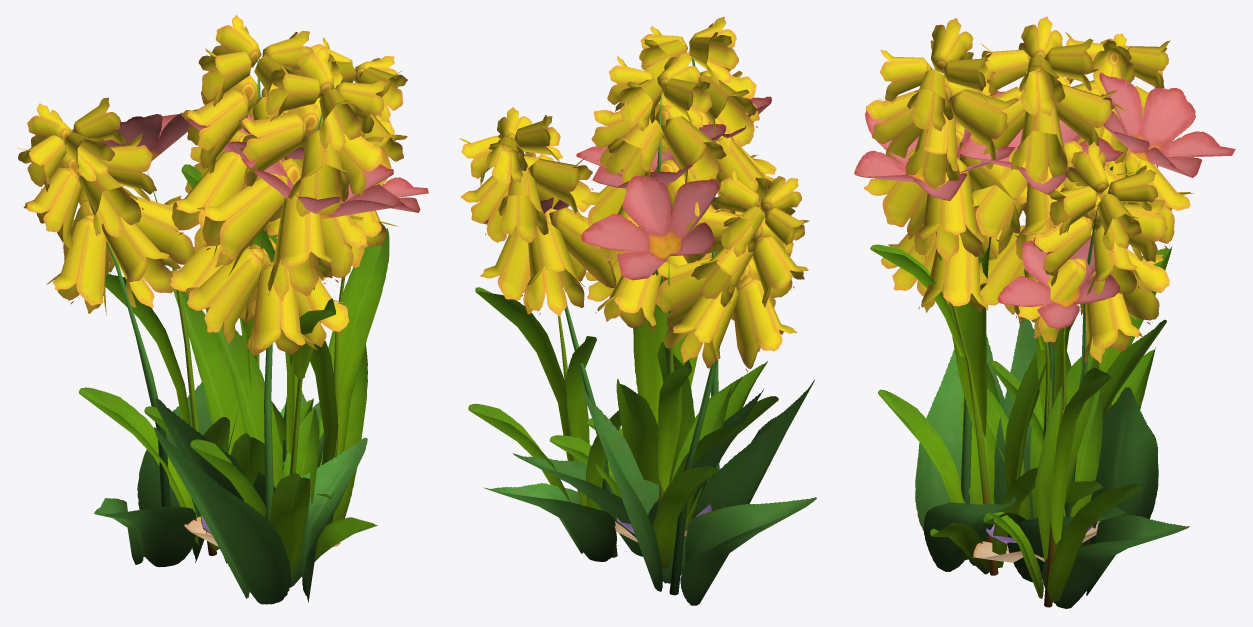
The model's file is MegaFlowers.glb.
3 views of the same model, side by side, from view 1: azimuth 30°, elevation 25°; view 2: azimuth 150°, elevation 25°; view 3: azimuth 270°, elevation 25° (orthographic). The views are drawn at different scales.
Parts seen in each view (by area): view 1: Flower_4_Group, Flower_3_Group, Flower_4_Single, Flower_3_Single; view 2: Flower_4_Group, Flower_3_Group, Flower_4_Single, Flower_3_Single; view 3: Flower_4_Group, Flower_3_Group, Flower_4_Single, Flower_3_Single, Petal_2.
Part boxes in pixels (x1,y1,x2,y2): Flower_4_Group: (17, 37, 407, 604); Flower_3_Group: (72, 109, 428, 585); Flower_4_Single: (155, 15, 327, 563); Flower_3_Single: (144, 112, 341, 507); Flower_4_Group: (459, 16, 816, 605); Flower_3_Group: (468, 96, 778, 568); Flower_4_Single: (513, 52, 763, 556); Flower_3_Single: (549, 124, 742, 497); Flower_4_Group: (864, 18, 1193, 608); Flower_3_Group: (854, 72, 1235, 607); Flower_4_Single: (970, 16, 1135, 582); Flower_3_Single: (956, 91, 1166, 524); Petal_2: (973, 521, 1100, 562).
Size of the model in its own units: 1.81 by 2.49 by 1.59.
2 materials, 2 textured.
